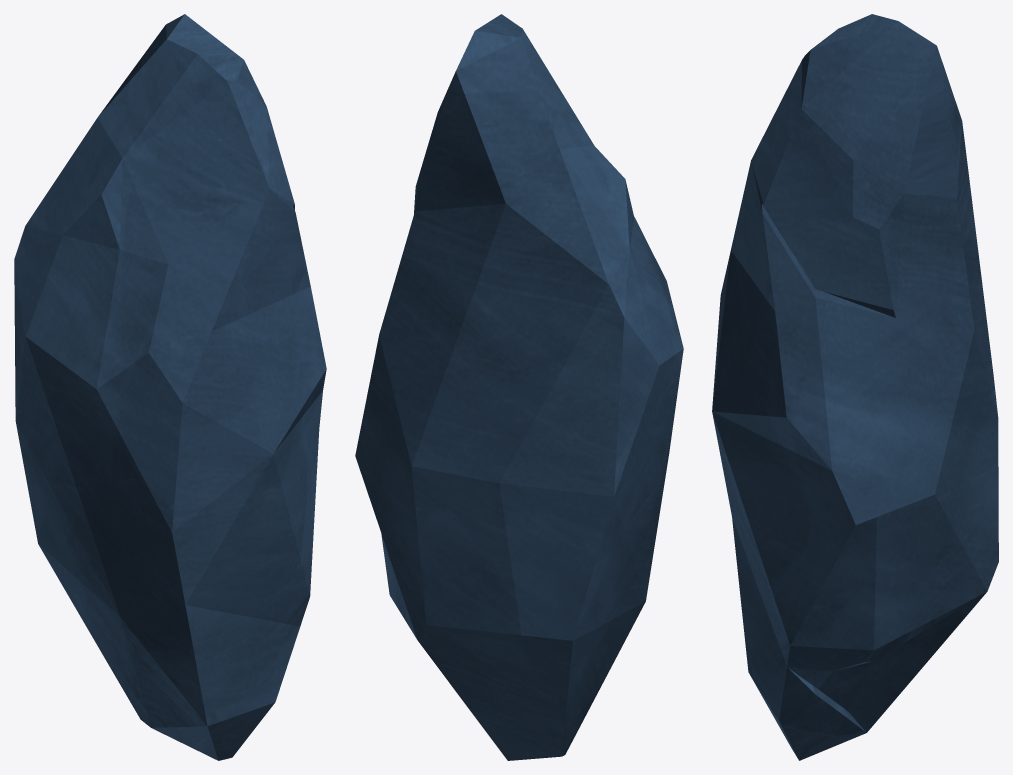
File: stone2.glb
The picture shows the model from 3 angles, left to right: view 1: azimuth 30°, elevation 25°; view 2: azimuth 150°, elevation 25°; view 3: azimuth 270°, elevation 25°; orthographic projection. The views are drawn at different scales.
Visible parts, largest first — view 1: stone2; view 2: stone2; view 3: stone2.
Part boxes in pixels (box(x1,y1,x2,y2)): stone2: box(14, 14, 326, 760); stone2: box(355, 14, 683, 760); stone2: box(712, 14, 998, 760).
Bounding box in the file's own units: 1.89 × 4.57 × 1.61.
1 material, 1 textured.
